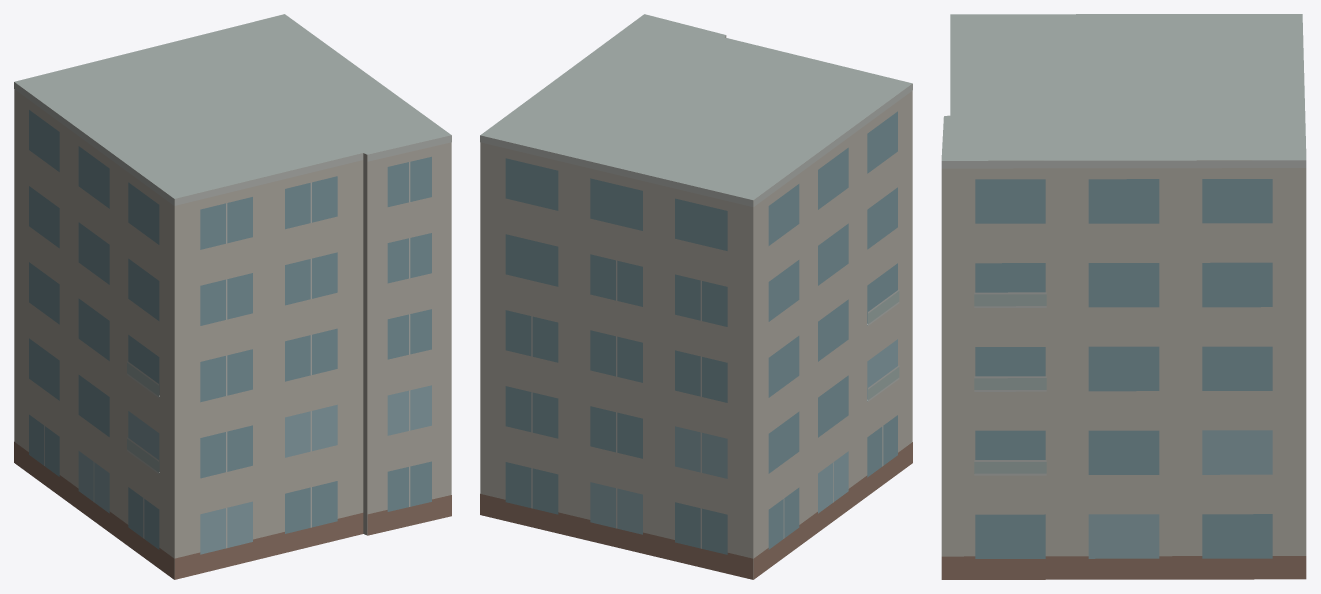
Rendered from survey-upis-32905209.glb.
3 views of the same model, side by side, from view 1: azimuth 30°, elevation 25°; view 2: azimuth 150°, elevation 25°; view 3: azimuth 270°, elevation 25° (orthographic). The views are drawn at different scales.
Visible parts, largest first — view 1: survey-upis-32905209.tmp; view 2: survey-upis-32905209.tmp; view 3: survey-upis-32905209.tmp.
Part boxes in pixels (x1,y1,x2,y2): survey-upis-32905209.tmp: (14,14,451,579); survey-upis-32905209.tmp: (480,14,912,579); survey-upis-32905209.tmp: (941,14,1306,579).
Size of the model in its own units: 9.99 by 13.2 by 10.43.
